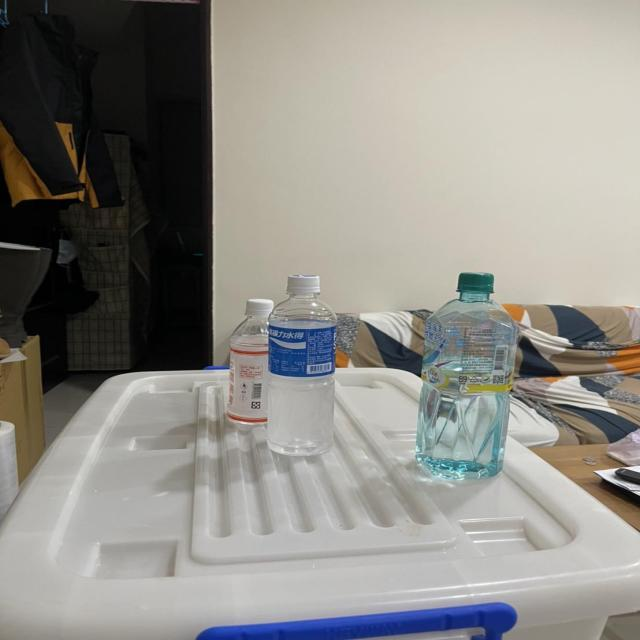bottle: (412, 271, 538, 485), (261, 273, 350, 460), (218, 299, 284, 427)
